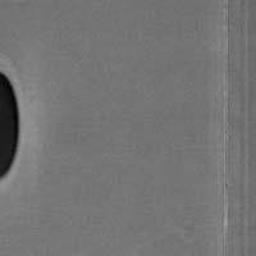Punching: (0, 70, 20, 179)
